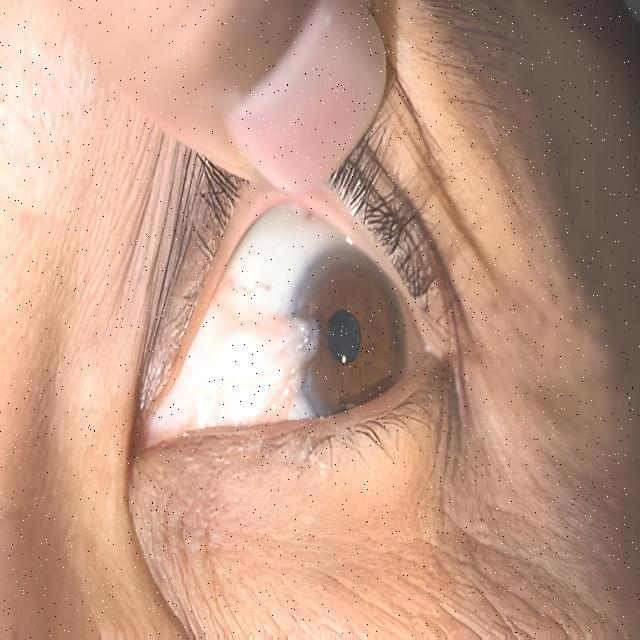Pterygium: (167, 284, 333, 422)
